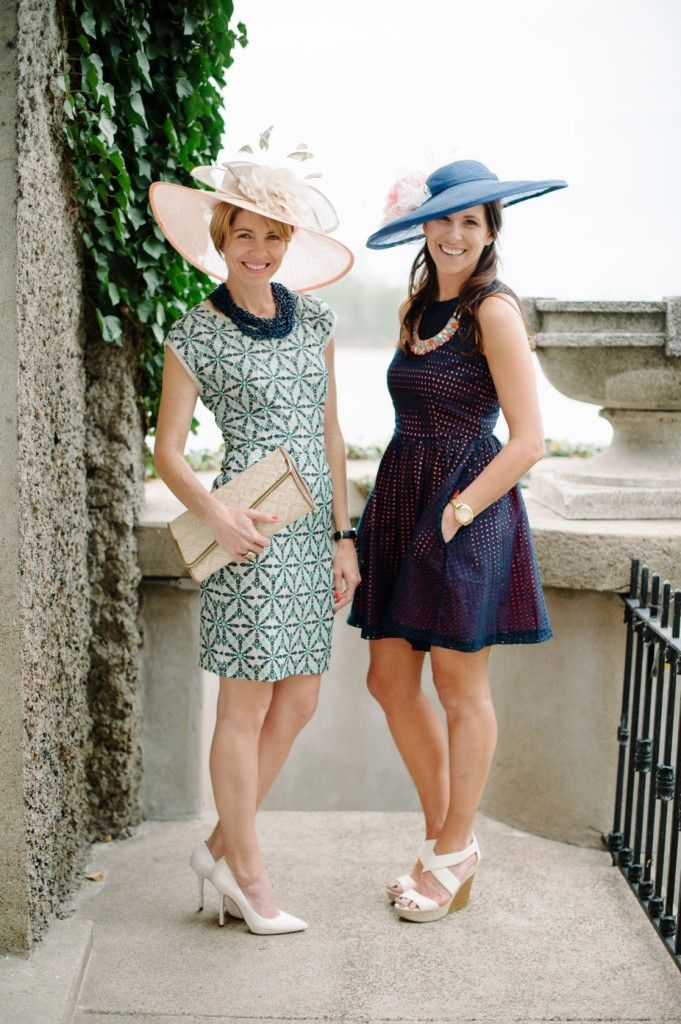Person: (114, 128, 383, 949), (350, 141, 541, 935)
